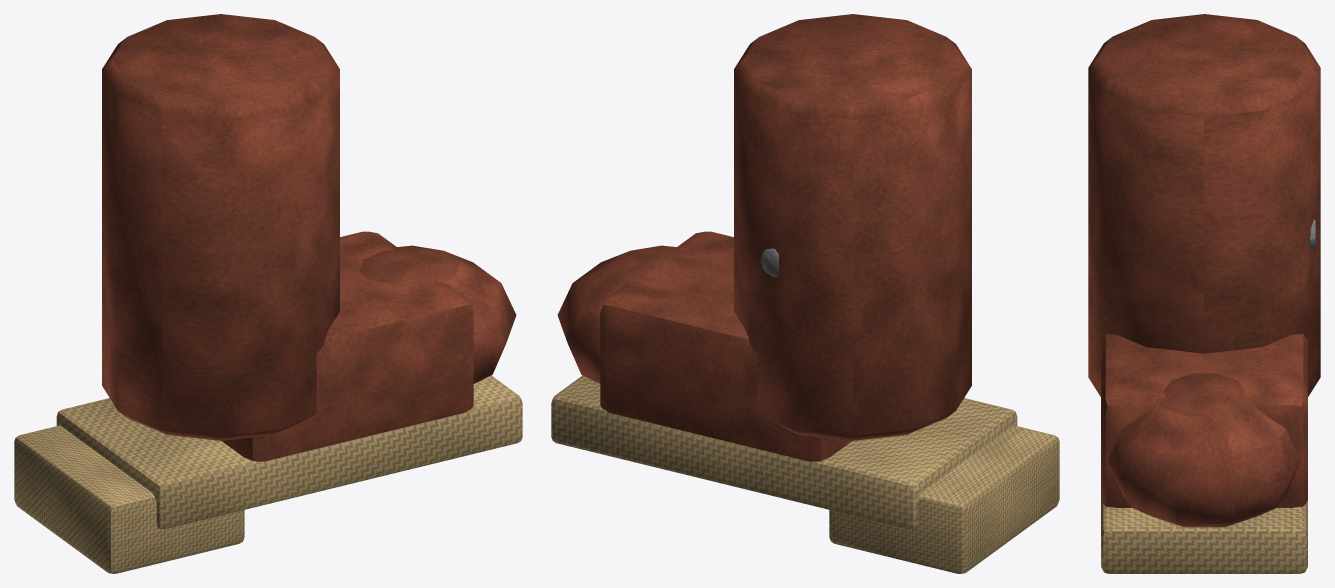
Rendered from basic_boots.glb.
3 renders of one model, left to right at view 1: azimuth 30°, elevation 25°; view 2: azimuth 150°, elevation 25°; view 3: azimuth 270°, elevation 25°, orthographic. The views are drawn at different scales.
Visible parts, largest first — view 1: basic_boots; view 2: basic_boots; view 3: basic_boots.
Part boxes in pixels (bbox=[...]): basic_boots: bbox=[14, 14, 522, 573]; basic_boots: bbox=[551, 14, 1059, 573]; basic_boots: bbox=[1088, 14, 1320, 573].
Size of the model in its own units: 0.1918 by 0.185 by 0.09.
3 materials, 3 textured.
